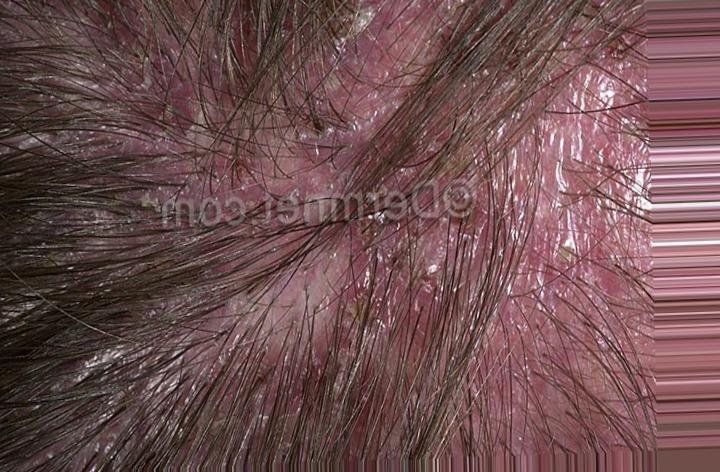Folliculitis: (271, 18, 631, 390)
